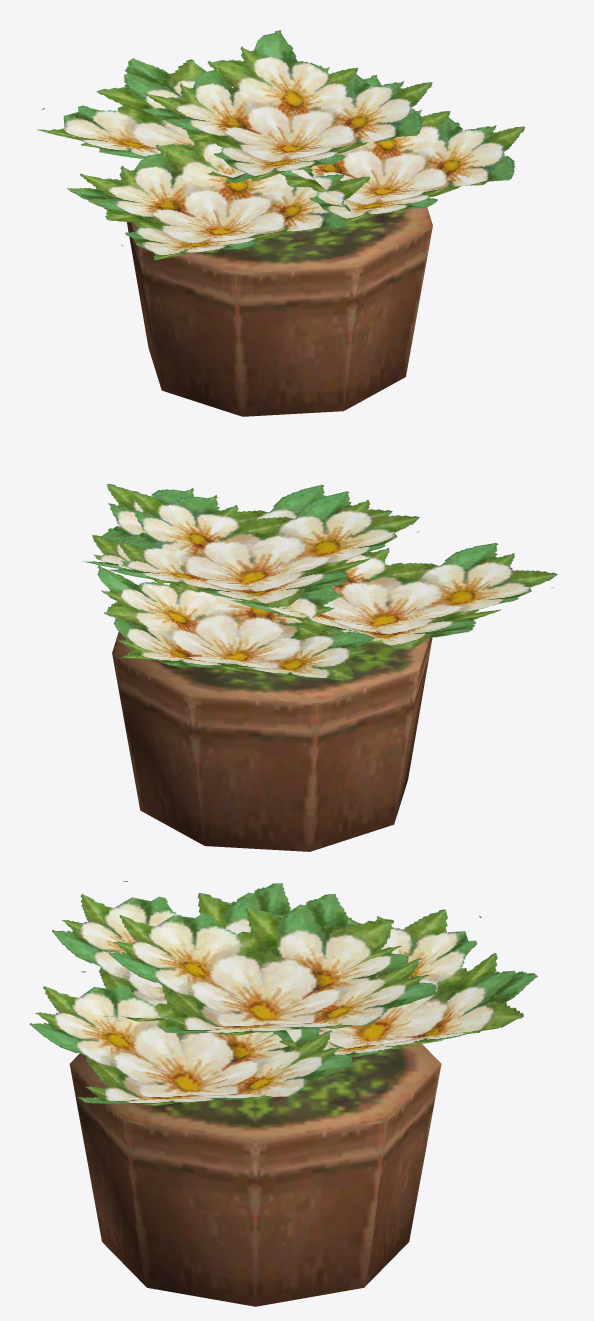
The model's file is nml-bd030.glb.
3 views of the same model, one above another, from view 1: azimuth 30°, elevation 25°; view 2: azimuth 150°, elevation 25°; view 3: azimuth 270°, elevation 25° (orthographic). The views are drawn at different scales.
Parts seen in each view (by area): view 1: geom_node_0; view 2: geom_node_0; view 3: geom_node_0.
Boxes of the visible parts, box(x1,y1,x2,y2) form: geom_node_0: box(37, 30, 525, 416); geom_node_0: box(83, 483, 557, 851); geom_node_0: box(29, 881, 537, 1306).
Size of the model in its own units: 1.49 by 0.8653 by 1.5.
Materials: 1 (1 with a texture image).
